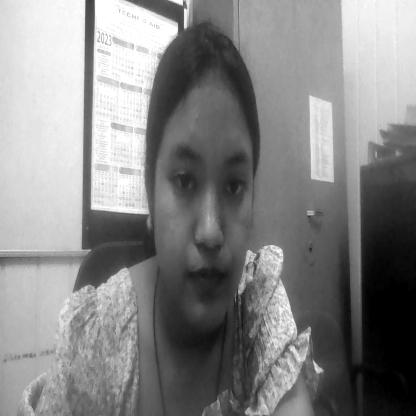Normal: (173, 93, 248, 328)
